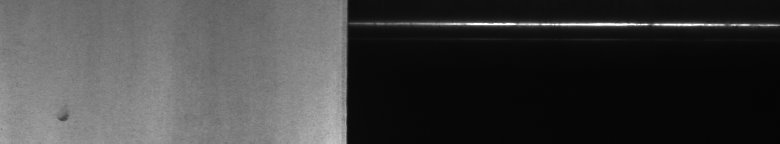fi: (55, 108, 77, 128)
